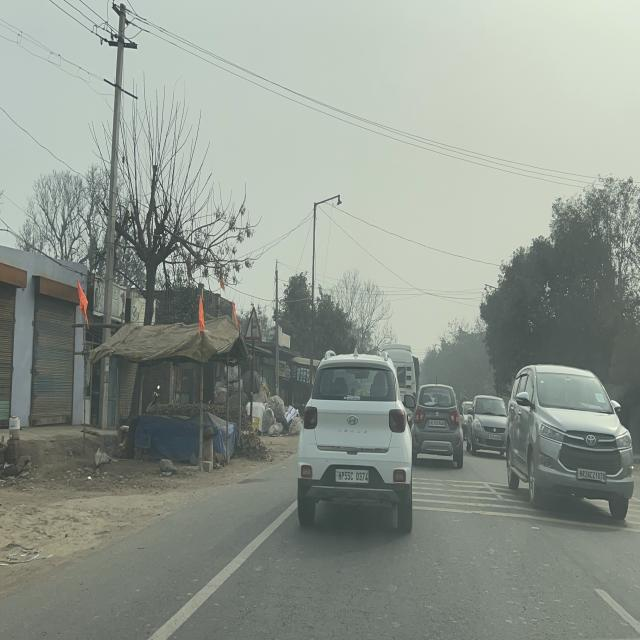SIDE_ROAD_RIGHT: (243, 304, 263, 342)
